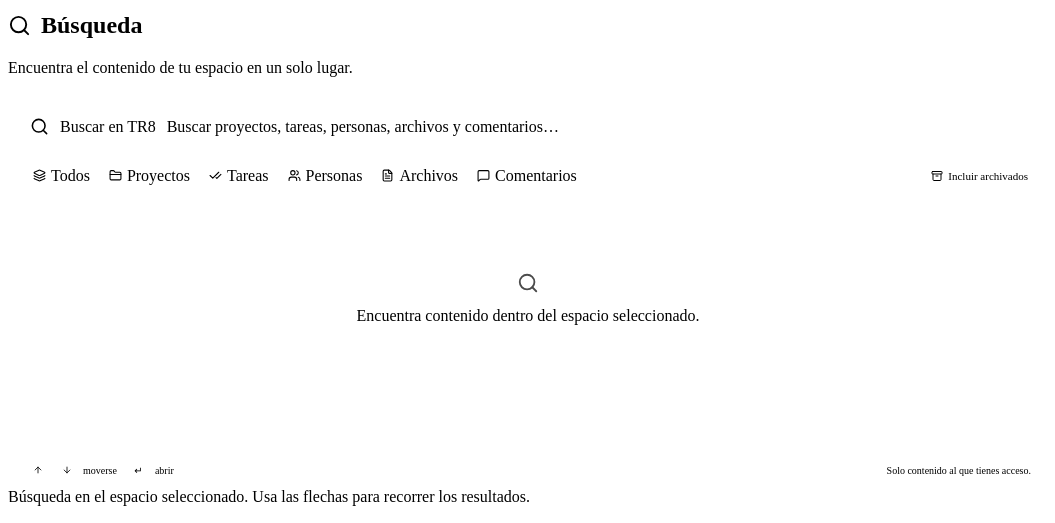
Test case: búsqueda global y paleta de acciones › trata HTML y expresiones especiales como texto, con resaltado seguro
This screenshot has width=1055, height=523.
Type "[Plan]" into the dropdown labelled "Buscar en TR8". click: (596, 127)
box: [167, 112, 1026, 142]
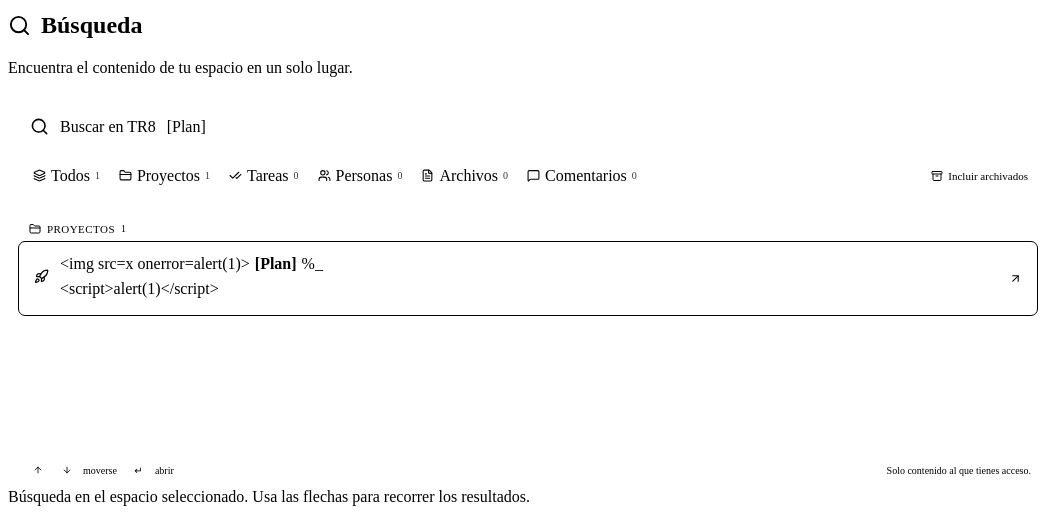
Expected: the option "img src=x" shows "<img src=x onerror=alert(1)> [Plan] %_", [18, 241, 1038, 316]
Expected: the text "[Plan]" is shown, [254, 255, 298, 272]
